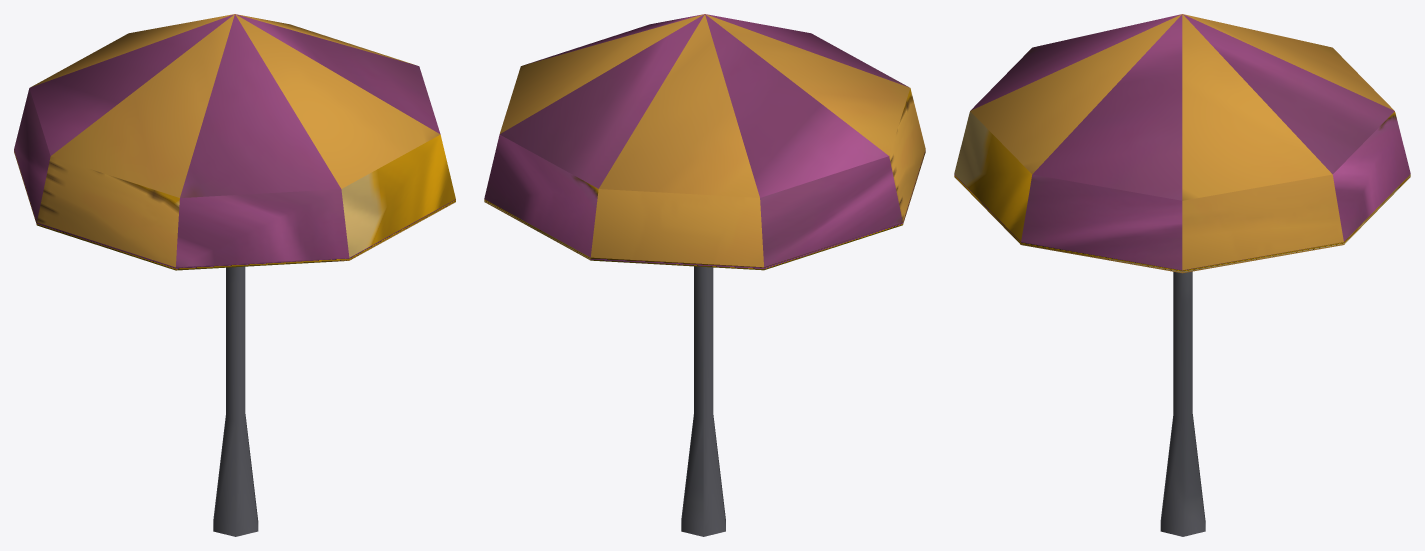
Rendered from umbrella1.FBX.
3 renders of one model, left to right at view 1: azimuth 30°, elevation 25°; view 2: azimuth 150°, elevation 25°; view 3: azimuth 270°, elevation 25°, orthographic.
Visible parts, largest first — view 1: Cylinder002; view 2: Cylinder002; view 3: Cylinder002.
Part boxes in pixels (x1,y1,x2,y2): Cylinder002: (14, 14, 455, 536); Cylinder002: (484, 14, 925, 536); Cylinder002: (954, 14, 1410, 536).
Size of the model in its own units: 122 by 151 by 122.
